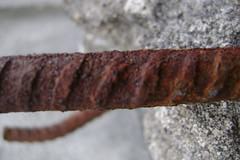Exposed reinforcement: (1, 44, 240, 113), (2, 110, 108, 143)
